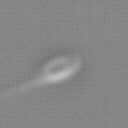normal: (1, 77, 41, 103)
